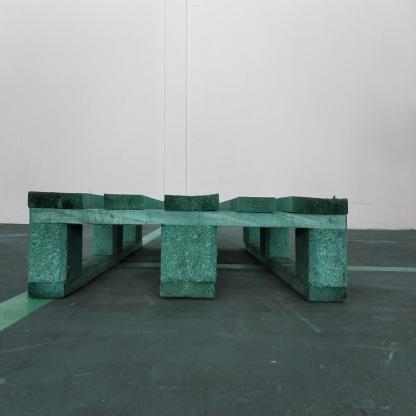BoxFace: (25, 188, 351, 311)
